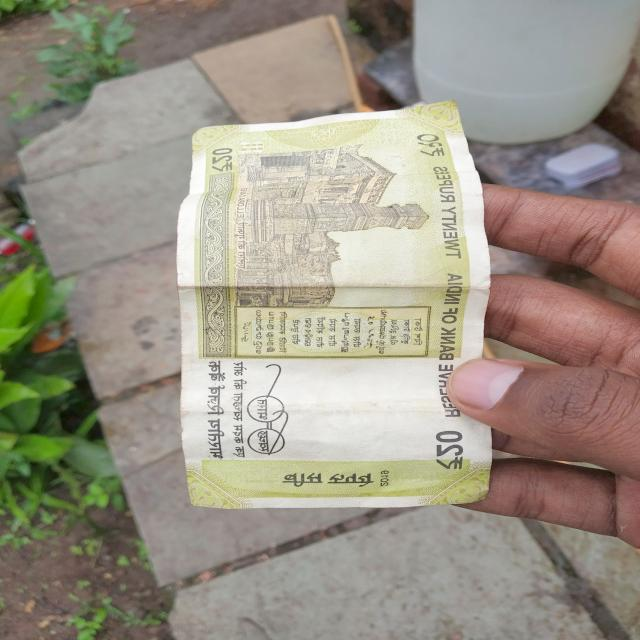20rs: (179, 102, 476, 512)
